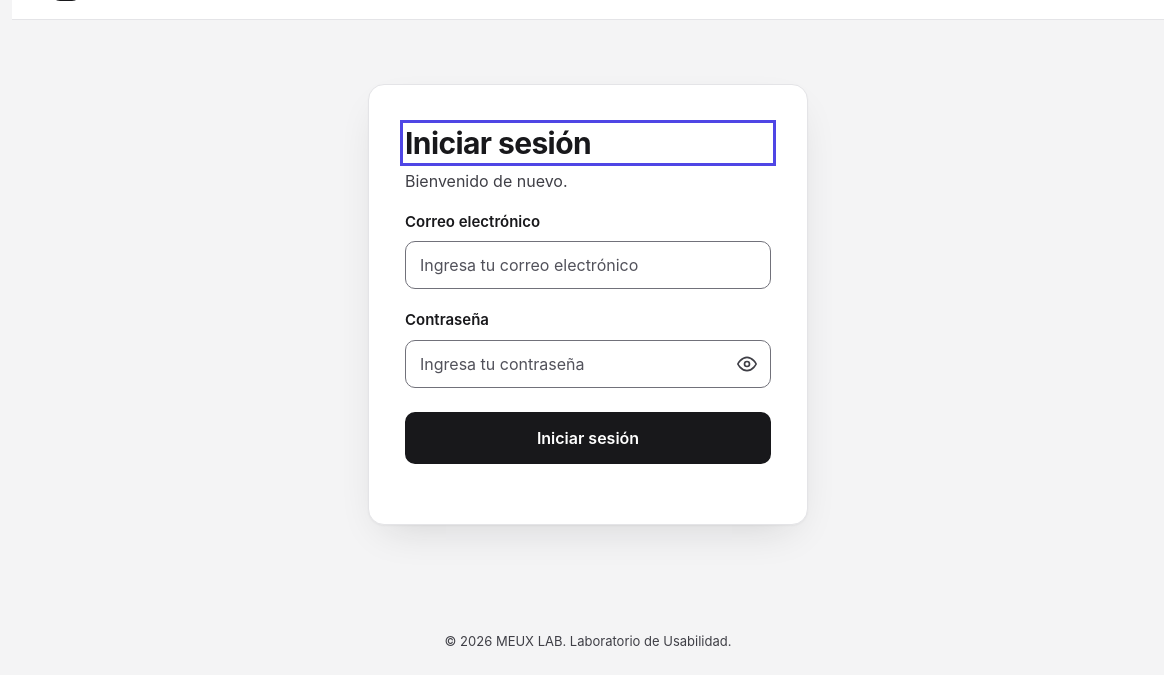
Test: LoginScreen › displays a temporary lock message with role='alert' in response to a 429 error
The width and height of the screenshot is (1164, 675).
Type "usuario@correo.com" into the field labelled "Correo electrónico" at x=588, y=265, box 405,241 -> 771,289
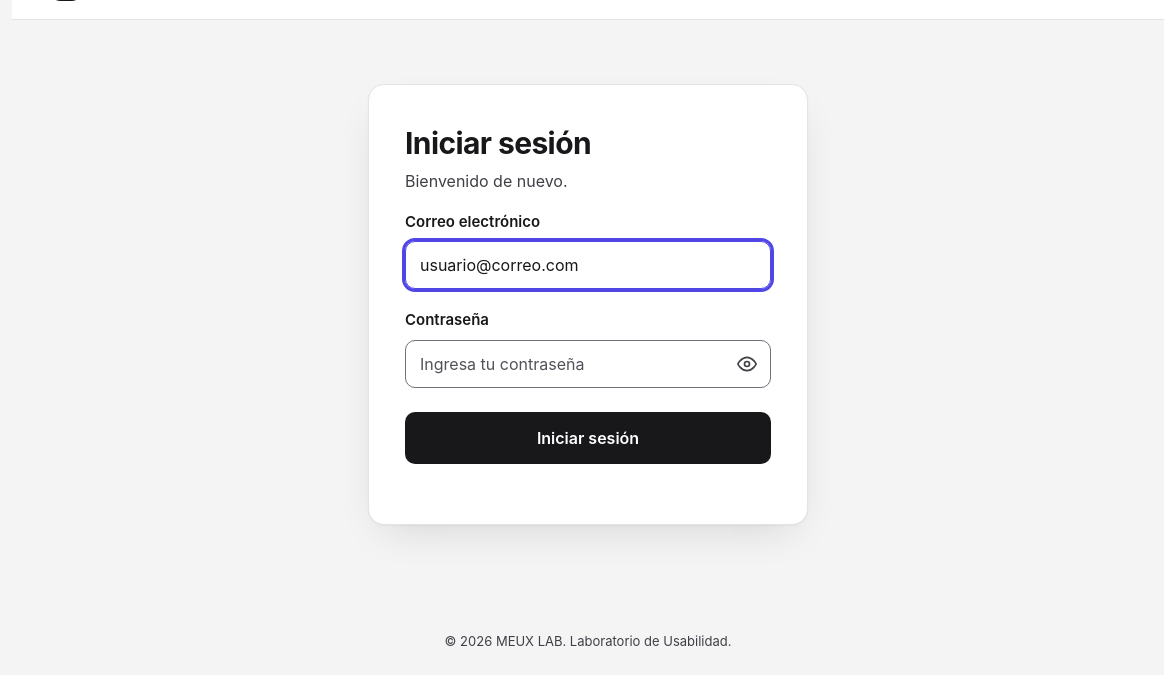
Type "cualquier-clave" into the password field labelled "Contraseña" at x=588, y=364, box 405,340 -> 771,388
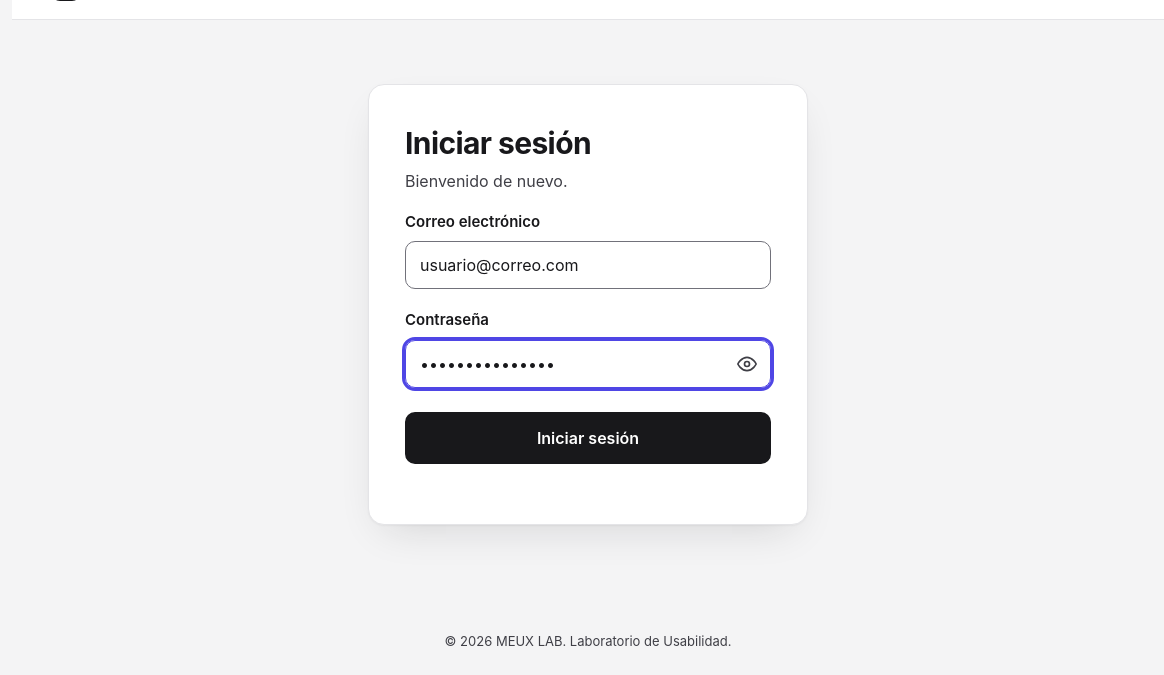
Click the button "Iniciar sesión" at x=588, y=438, box 405,412 -> 771,464
(page scrolled)
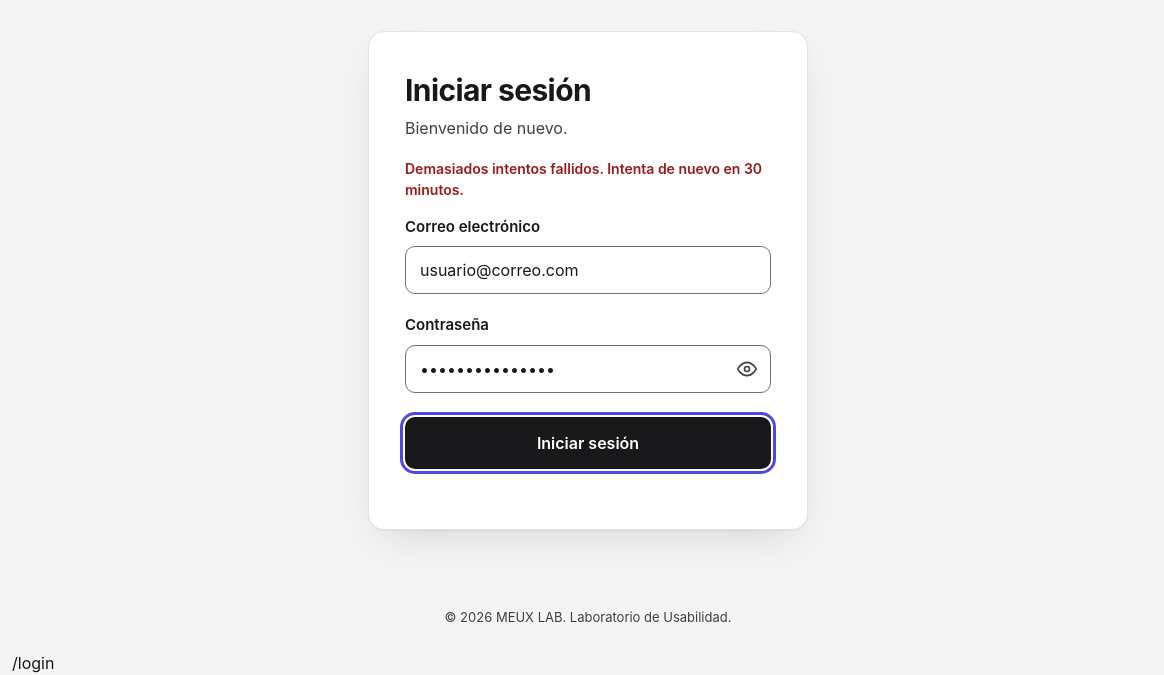
Expected: the text with test id "location-pathname" reads "/login", 12,653 -> 54,673
Result: the message shows "Demasiados intentos" at 405,160 -> 762,198
